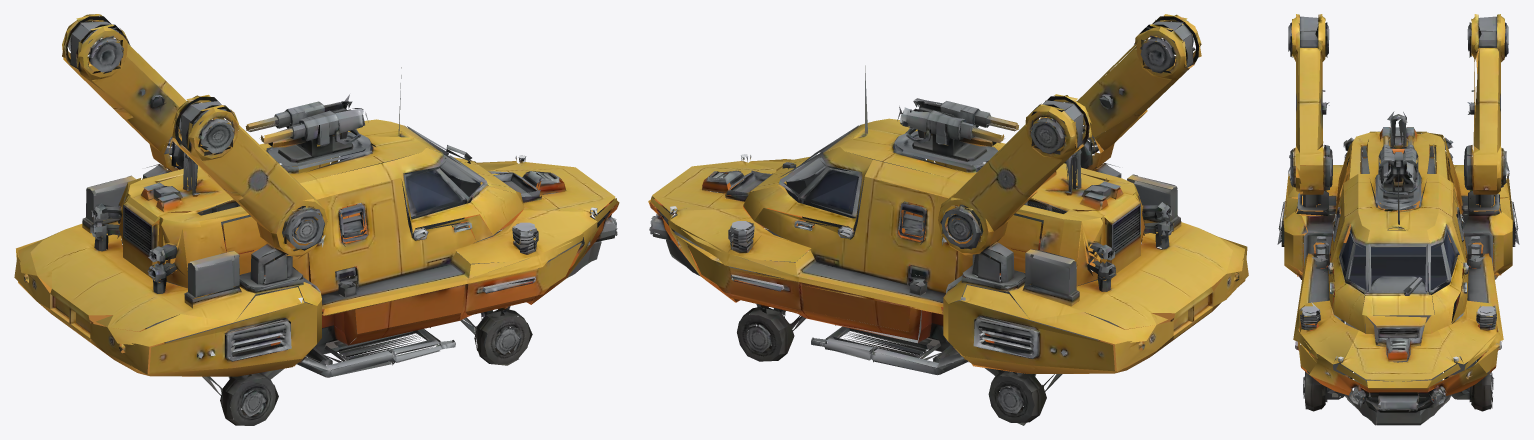
The model's file is mariner_LOD1.glb.
3 renders of one model, left to right at view 1: azimuth 30°, elevation 25°; view 2: azimuth 150°, elevation 25°; view 3: azimuth 270°, elevation 25°, orthographic. The views are drawn at different scales.
Parts seen in each view (by area): view 1: mariner_LOD1; view 2: mariner_LOD1; view 3: mariner_LOD1.
Part boxes in pixels (x1,y1,x2,y2): mariner_LOD1: (14,14,619,425); mariner_LOD1: (648,14,1248,425); mariner_LOD1: (1277,14,1519,425).
Bounding box in the file's own units: 1.01 × 0.6053 × 0.488.
1 material, 1 textured.
